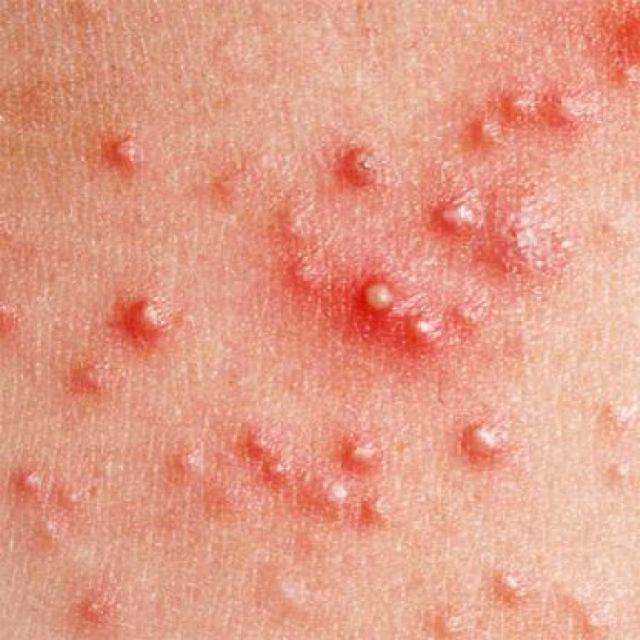pustules: (98, 280, 194, 351), (426, 169, 509, 248), (340, 258, 425, 334), (450, 402, 532, 476), (537, 66, 597, 134), (89, 124, 163, 170), (0, 449, 62, 502), (457, 100, 509, 157), (398, 308, 448, 355), (494, 77, 540, 128), (272, 200, 323, 243), (334, 432, 386, 470), (251, 456, 300, 496), (482, 563, 530, 603), (168, 444, 214, 478), (76, 589, 121, 623), (237, 423, 277, 460), (55, 486, 100, 512)
